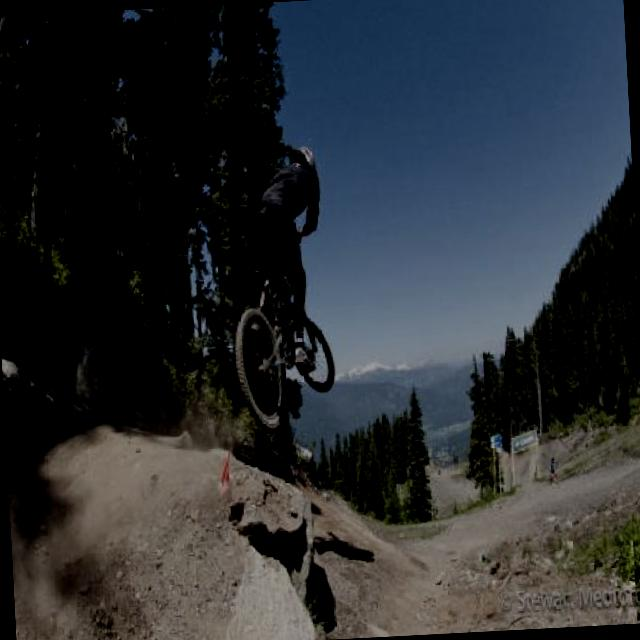Person: (240, 142, 330, 352)
